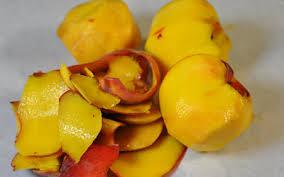Organic: (7, 4, 284, 177)
